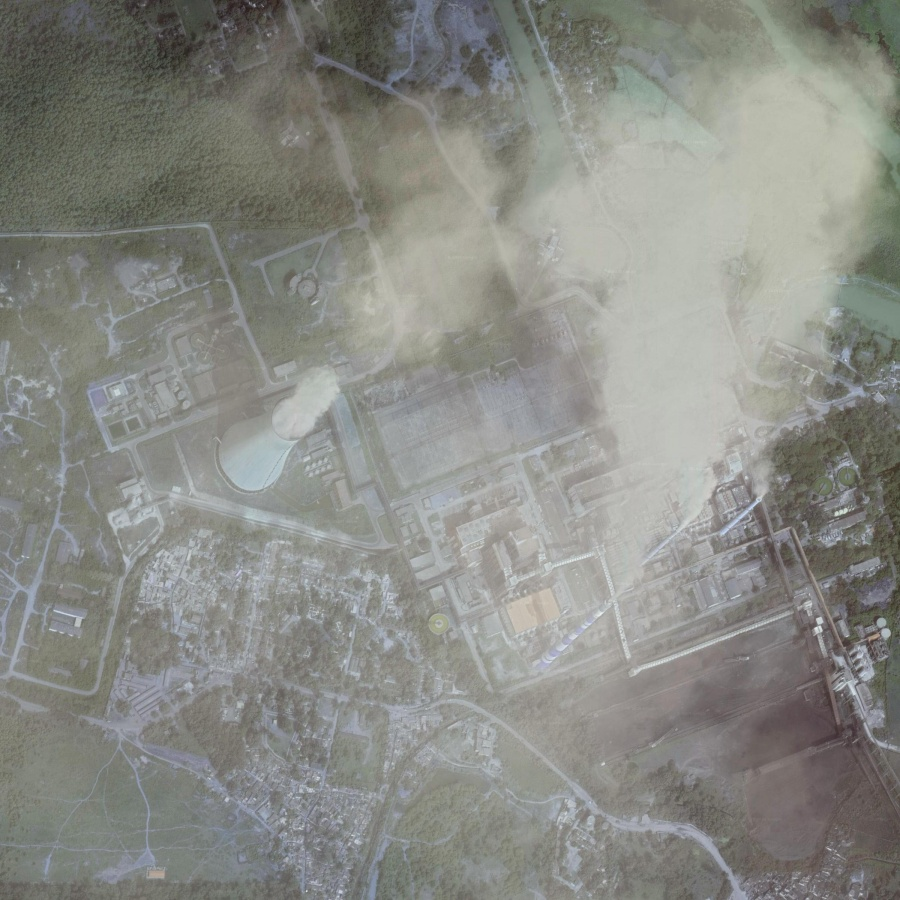PowerPlant: (499, 419, 789, 700), (208, 326, 363, 537)
